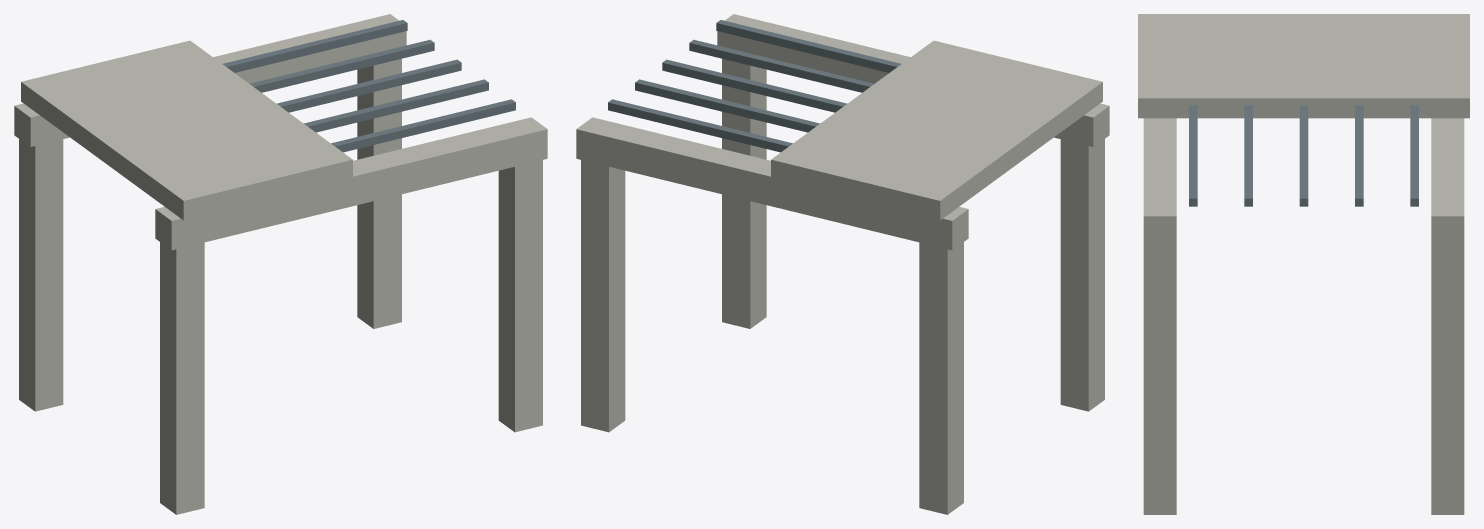
File: three-d-zombie-quarantine-streets-zombie-quarantine-streets-exposed-floor-frame-d59d6fbf.glb
3 views of the same model, side by side, from view 1: azimuth 30°, elevation 25°; view 2: azimuth 150°, elevation 25°; view 3: azimuth 270°, elevation 25° (orthographic).
Visible parts, largest first — view 1: exposed-floor-frame; view 2: exposed-floor-frame; view 3: exposed-floor-frame.
Part boxes in pixels (<box>): exposed-floor-frame: <box>14,14,547,514</box>; exposed-floor-frame: <box>576,14,1109,514</box>; exposed-floor-frame: <box>1138,14,1469,514</box>.
Bounding box in the file's own units: 4 × 3.2 × 3.
